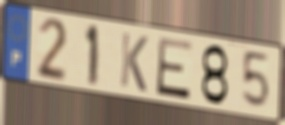1: (82, 22, 101, 89)
2: (36, 16, 69, 84)
5: (240, 50, 271, 112)
8: (201, 43, 230, 106)
E: (154, 35, 195, 102)
K: (118, 29, 150, 95)
